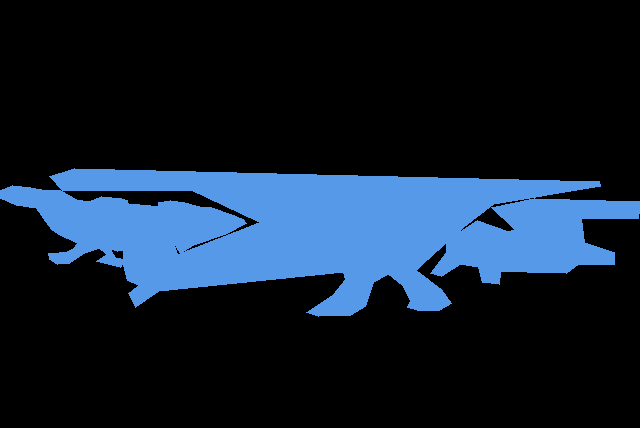Airplane: (49, 168, 601, 317), (0, 185, 246, 267), (430, 198, 640, 284)
